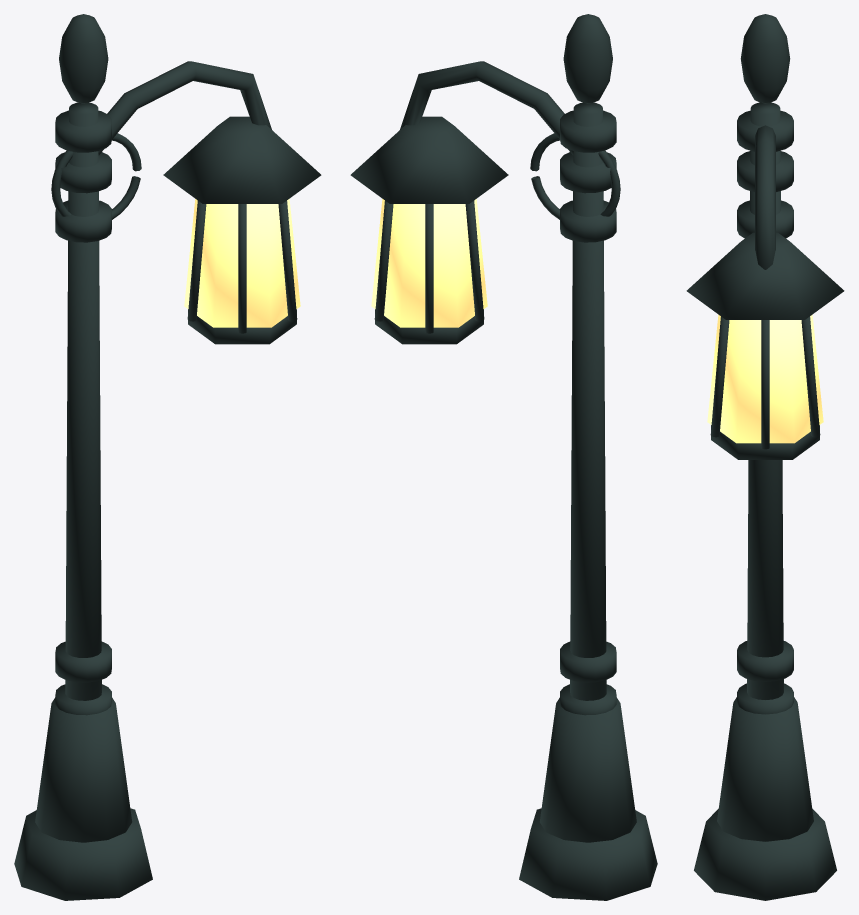
Rendered from StreetLamp.glb.
3 views of the same model, side by side, from view 1: azimuth 30°, elevation 25°; view 2: azimuth 150°, elevation 25°; view 3: azimuth 270°, elevation 25° (orthographic).
Visible parts, largest first — view 1: RK_StreetLamp_RK_Iron, RK_StreetLamp_RK_Glow; view 2: RK_StreetLamp_RK_Iron, RK_StreetLamp_RK_Glow; view 3: RK_StreetLamp_RK_Iron, RK_StreetLamp_RK_Glow.
Boxes of the visible parts, x1,y1,x2,y2 form: RK_StreetLamp_RK_Iron: (14,14,321,900); RK_StreetLamp_RK_Glow: (184,199,300,327); RK_StreetLamp_RK_Iron: (350,14,657,900); RK_StreetLamp_RK_Glow: (371,199,487,327); RK_StreetLamp_RK_Iron: (686,14,844,900); RK_StreetLamp_RK_Glow: (707,314,823,443).
Bounding box in the file's own units: 1.31 × 3.82 × 0.64.
